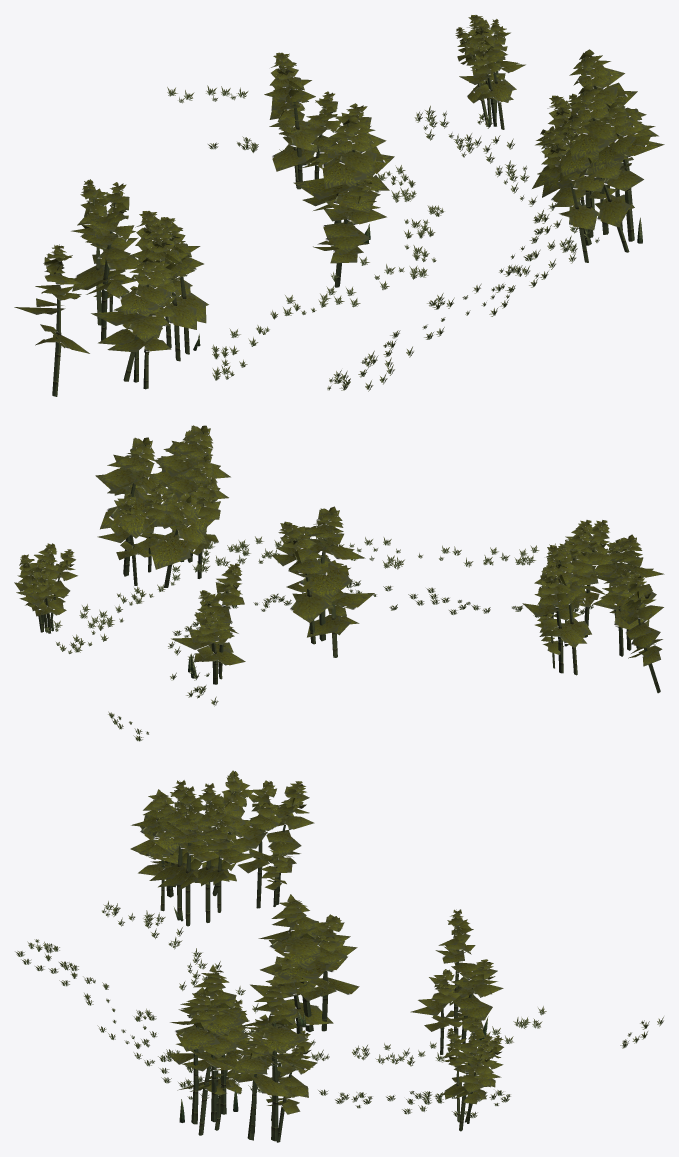
File: tree02.fbx
3 renders of one model, top to bottom at view 1: azimuth 30°, elevation 25°; view 2: azimuth 150°, elevation 25°; view 3: azimuth 270°, elevation 25°, orthographic. The views are drawn at different scales.
Visible parts, largest first — view 1: tree02; view 2: tree02; view 3: tree02.
Part boxes in pixels (bbox=[...]): tree02: bbox=[14, 15, 664, 396]; tree02: bbox=[14, 425, 664, 741]; tree02: bbox=[15, 770, 663, 1142].
Size of the model in its own units: 6674 by 1895 by 6496.
